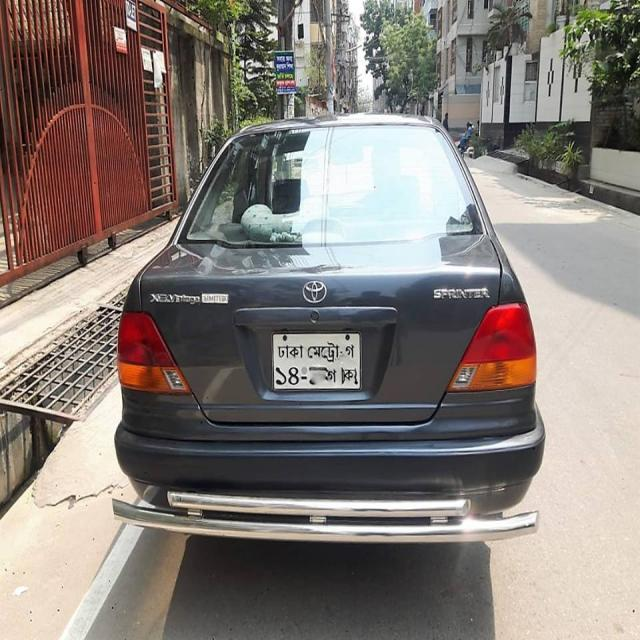car: (102, 93, 560, 577)
